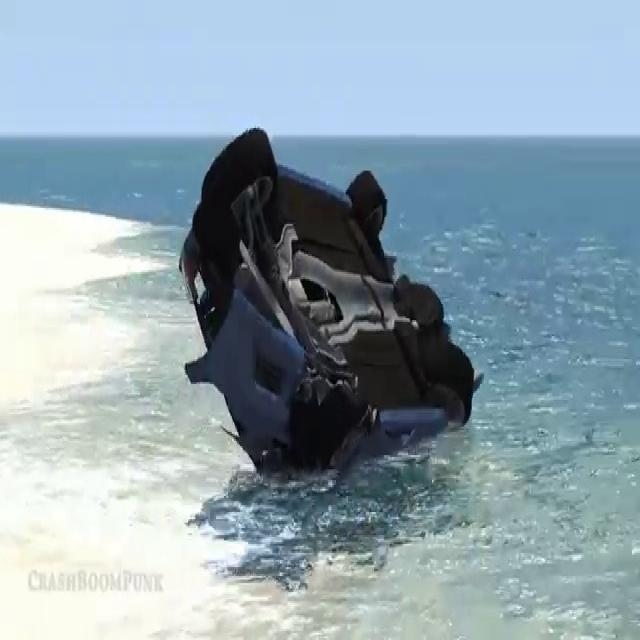accident: (173, 112, 485, 476)
